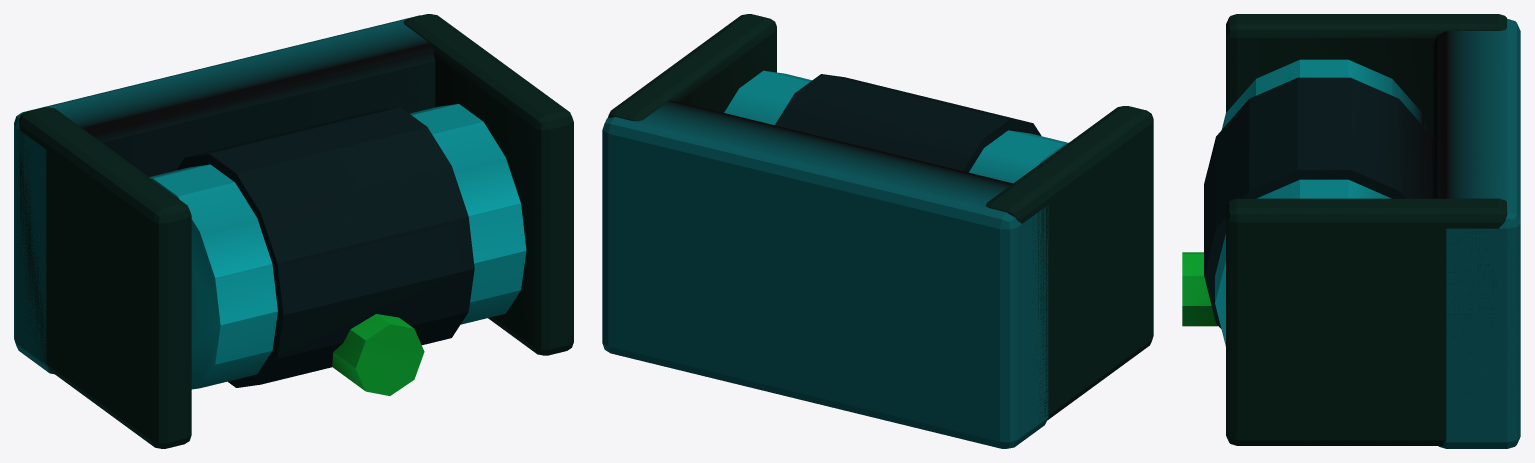
The model's file is part_winch.glb.
The picture shows the model from 3 angles, left to right: view 1: azimuth 30°, elevation 25°; view 2: azimuth 150°, elevation 25°; view 3: azimuth 270°, elevation 25°; orthographic projection.
Visible parts, largest first — view 1: part_winch; view 2: part_winch; view 3: part_winch.
Part boxes in pixels (left/top/right/bottom): part_winch: left=14, top=14, right=573, bottom=448; part_winch: left=602, top=14, right=1153, bottom=448; part_winch: left=1182, top=14, right=1520, bottom=448.
Size of the model in its own units: 0.22 by 0.122 by 0.155.
Materials: 1 (1 with a texture image).
